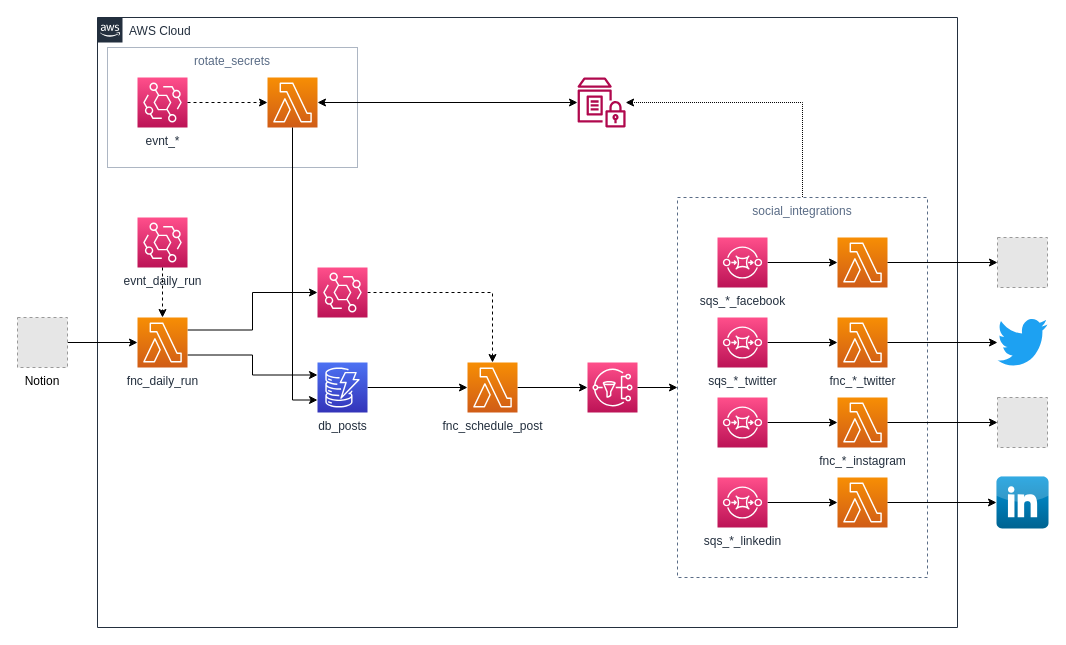
Image size: 1066x645. Some labels were removed from this diagram. Grey dashed boxes stand in for pictures. The shapes that lost their labels are listed below. From the top down, each one's centre as x and y in pixels, then its label:
pixel 292 102: fnc_*
pixel 601 102: parameter_store
pixel 862 262: fnc_*_facebook
pixel 342 292: evnt_schedule_post
pixel 612 387: sns_social
pixel 742 422: sqs_*_instagram
pixel 862 502: fnc_*_linkedin
